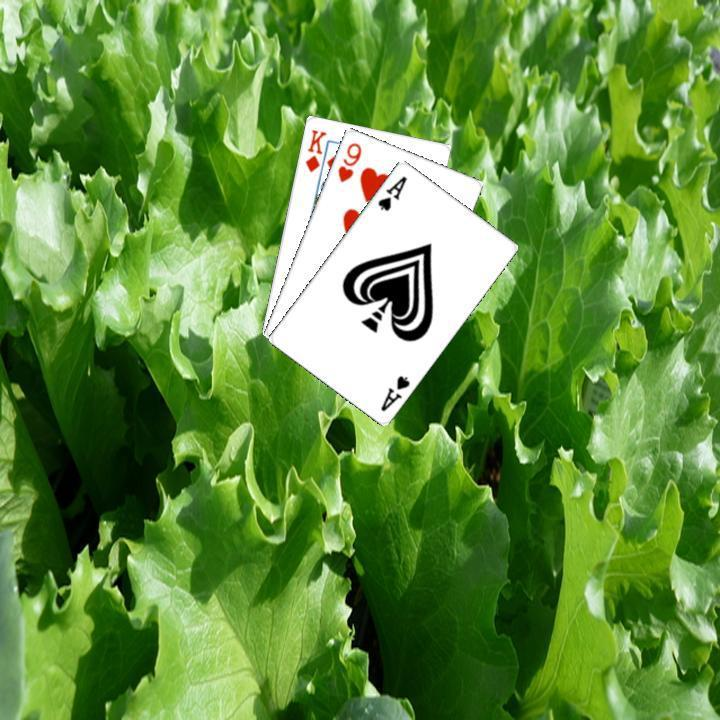9: (333, 138, 363, 184)
A: (376, 370, 412, 413), (373, 171, 409, 213)
K: (301, 125, 328, 174)
